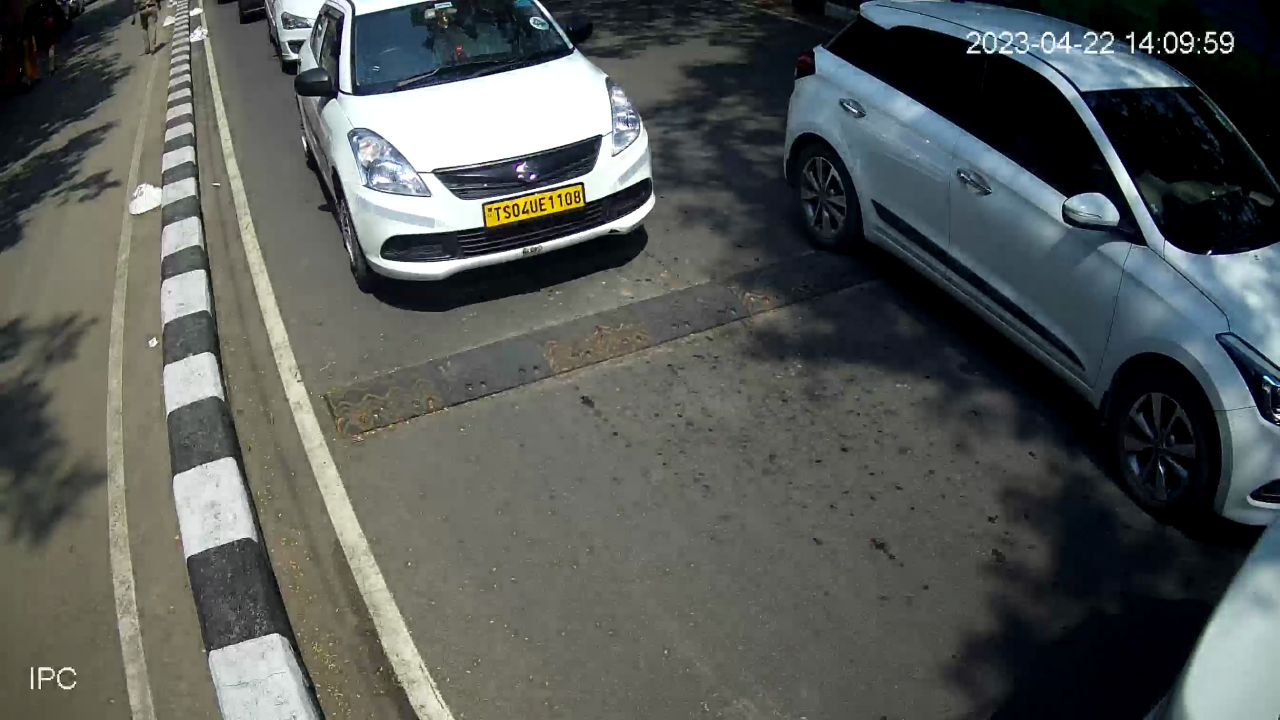license_plate: (480, 176, 588, 230)
